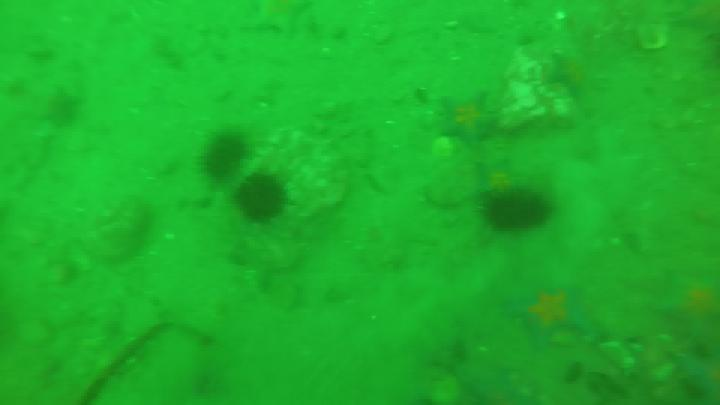echinus: (477, 187, 552, 229), (236, 172, 289, 224), (196, 130, 249, 182)
scallop: (640, 24, 673, 52)
starfish: (509, 284, 600, 349), (662, 261, 720, 338), (435, 95, 502, 152), (463, 371, 541, 405), (676, 355, 718, 405)
